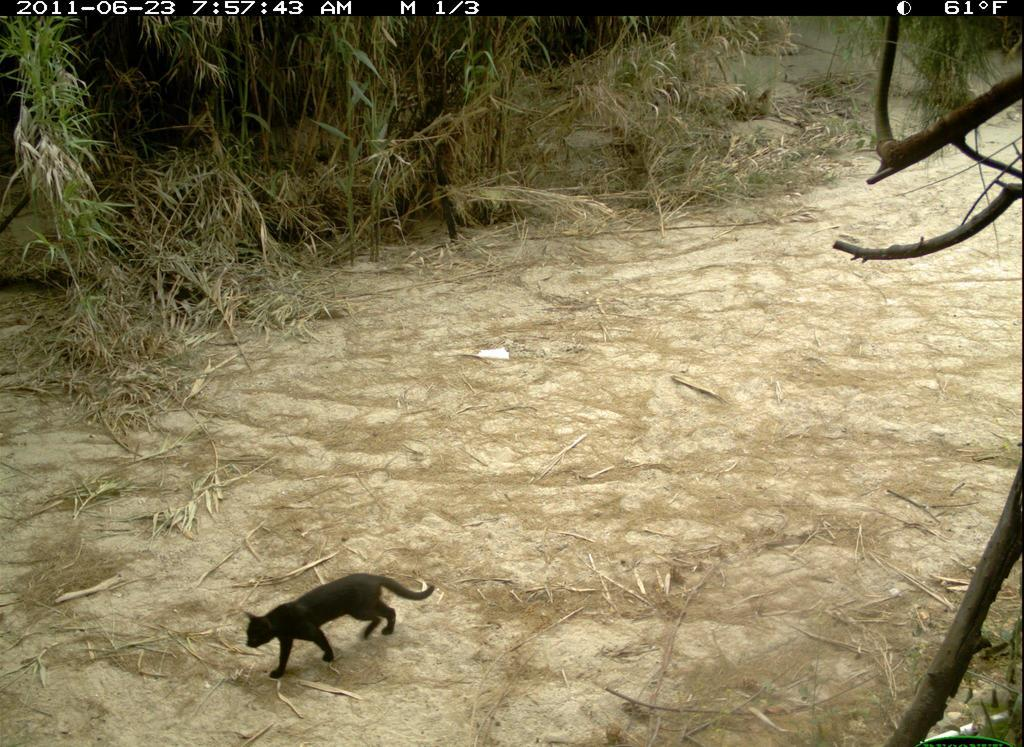cat: (240, 570, 441, 683)
